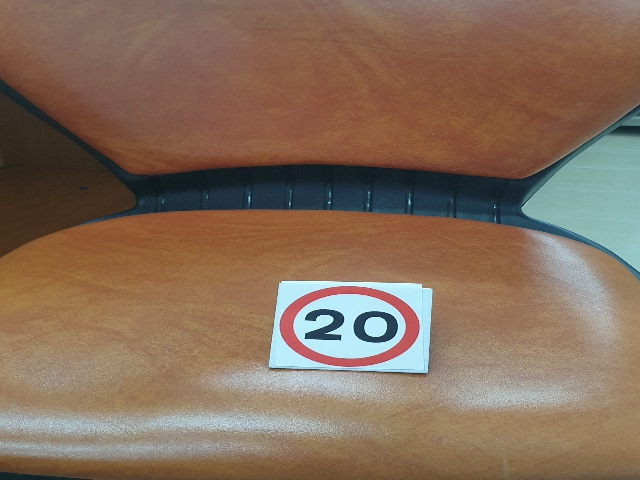Limit 20: (281, 287, 420, 366)
